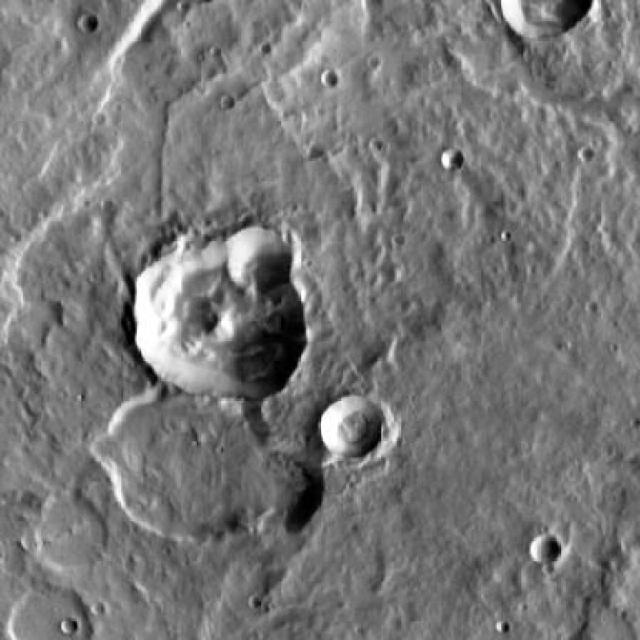crater: (131, 238, 306, 414), (104, 379, 278, 553), (229, 451, 317, 538), (29, 502, 106, 578), (11, 586, 94, 640), (319, 397, 384, 461), (211, 232, 275, 296), (499, 1, 593, 42), (530, 535, 558, 562), (441, 150, 462, 172), (78, 13, 98, 33), (89, 600, 106, 618), (322, 70, 338, 88), (220, 95, 235, 110)
